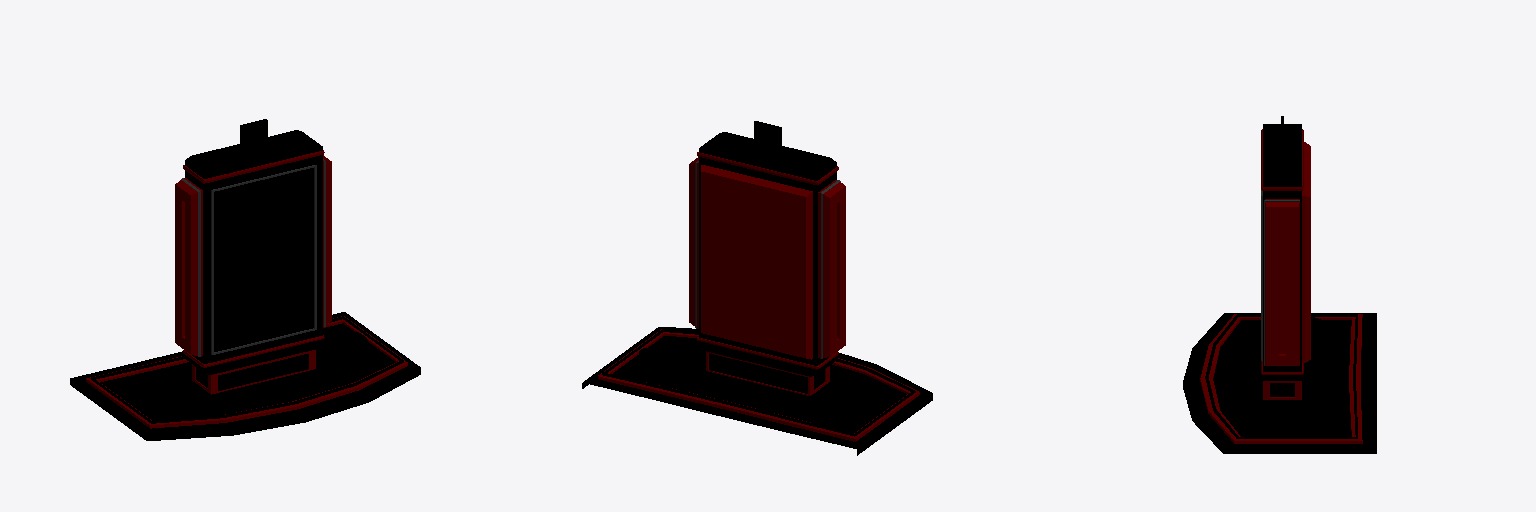
Rendered from objPanel.obj.
3 views of the same model, side by side, from view 1: azimuth 30°, elevation 25°; view 2: azimuth 150°, elevation 25°; view 3: azimuth 270°, elevation 25° (orthographic).
Visible parts, largest first — view 1: panel, floor, rocks; view 2: panel, floor, rocks; view 3: floor, panel, rocks.
Boxes of the visible parts, x1,y1,x2,y2 form: panel: [175, 119, 331, 400]; floor: [70, 312, 420, 440]; rocks: [123, 330, 369, 414]; panel: [689, 121, 845, 402]; floor: [582, 327, 932, 455]; rocks: [638, 346, 895, 423]; floor: [1183, 313, 1376, 453]; panel: [1258, 116, 1310, 404]; rocks: [1233, 317, 1333, 436].
Size of the model in its own units: 9.14 by 8.46 by 5.6.